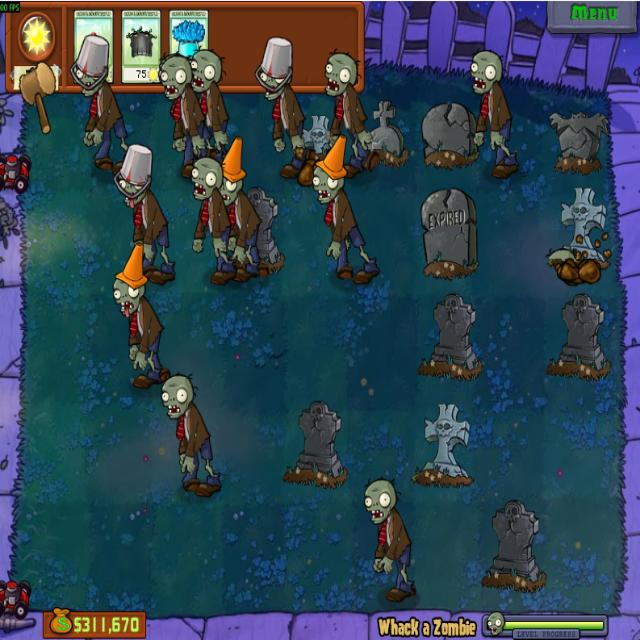buckethead: (114, 143, 155, 210), (254, 35, 294, 102), (73, 34, 111, 98)
conehead: (312, 134, 350, 206), (111, 242, 146, 320), (214, 136, 247, 207)
grave: (544, 291, 615, 385), (479, 499, 546, 594), (418, 184, 479, 279), (418, 290, 482, 380), (410, 403, 474, 487), (286, 399, 345, 487), (550, 186, 610, 271), (230, 186, 282, 276), (549, 106, 608, 176), (419, 99, 477, 170), (360, 98, 406, 168), (298, 108, 340, 168)
gravebuster: (120, 8, 163, 85)
zombie: (320, 48, 360, 99), (466, 48, 505, 98), (158, 372, 195, 420), (363, 476, 400, 524), (156, 53, 192, 101), (187, 157, 223, 202), (187, 49, 223, 94)
